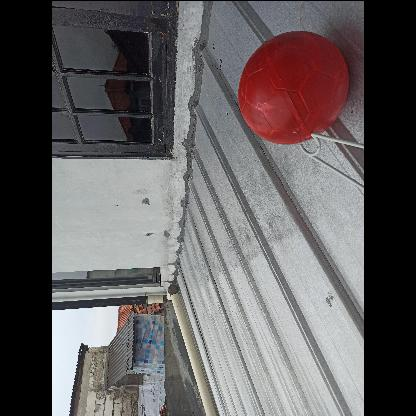red_ball: (235, 33, 347, 145)
